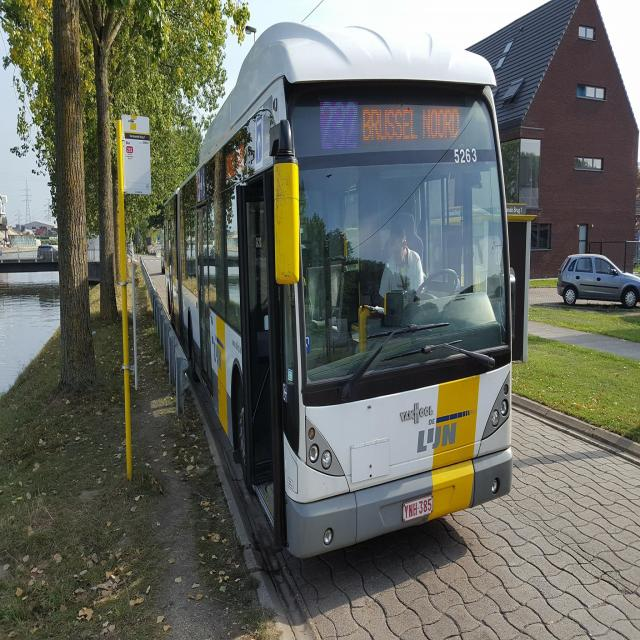bus-number: (319, 97, 359, 154)
